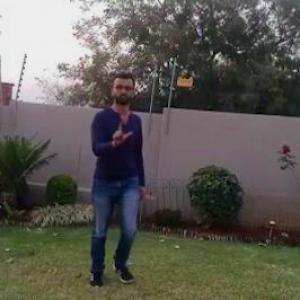land_hand: (104, 115, 136, 148)
